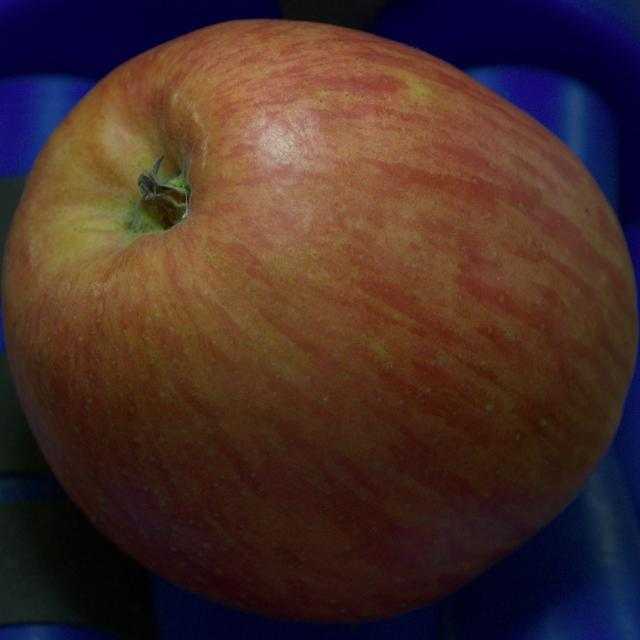apple: (2, 20, 638, 622)
